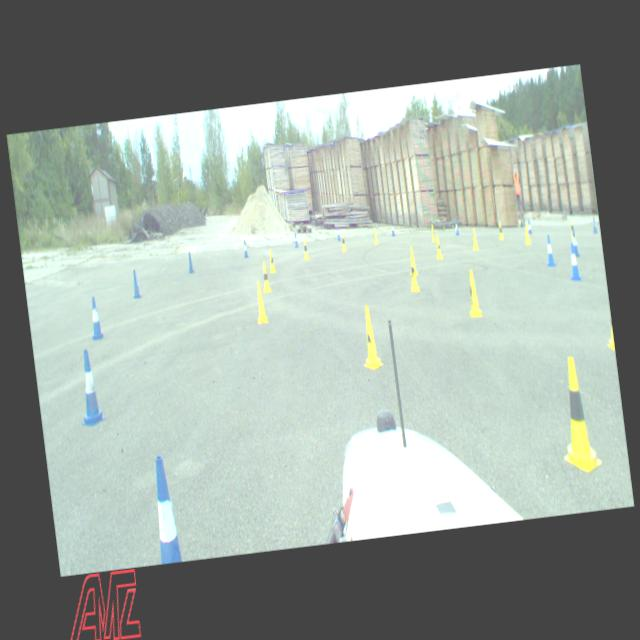blue_cone: (149, 456, 182, 563), (73, 348, 106, 426), (86, 296, 104, 339), (567, 242, 581, 280), (543, 234, 555, 267), (130, 268, 141, 298), (570, 226, 579, 256), (186, 251, 194, 273), (590, 217, 598, 233), (242, 240, 248, 258), (526, 218, 532, 235), (453, 218, 459, 234), (292, 232, 298, 248), (390, 222, 395, 236), (336, 226, 340, 240)
yellow_cone: (552, 354, 602, 474), (356, 304, 384, 370), (465, 268, 482, 317), (253, 280, 269, 323), (407, 256, 420, 292), (260, 261, 271, 292), (604, 316, 614, 349), (407, 246, 418, 276), (433, 233, 442, 260), (266, 248, 276, 272), (470, 227, 478, 249), (523, 222, 531, 244), (568, 218, 576, 238), (497, 220, 504, 240), (339, 232, 346, 251), (302, 238, 308, 260), (430, 224, 436, 242), (372, 227, 378, 244)
